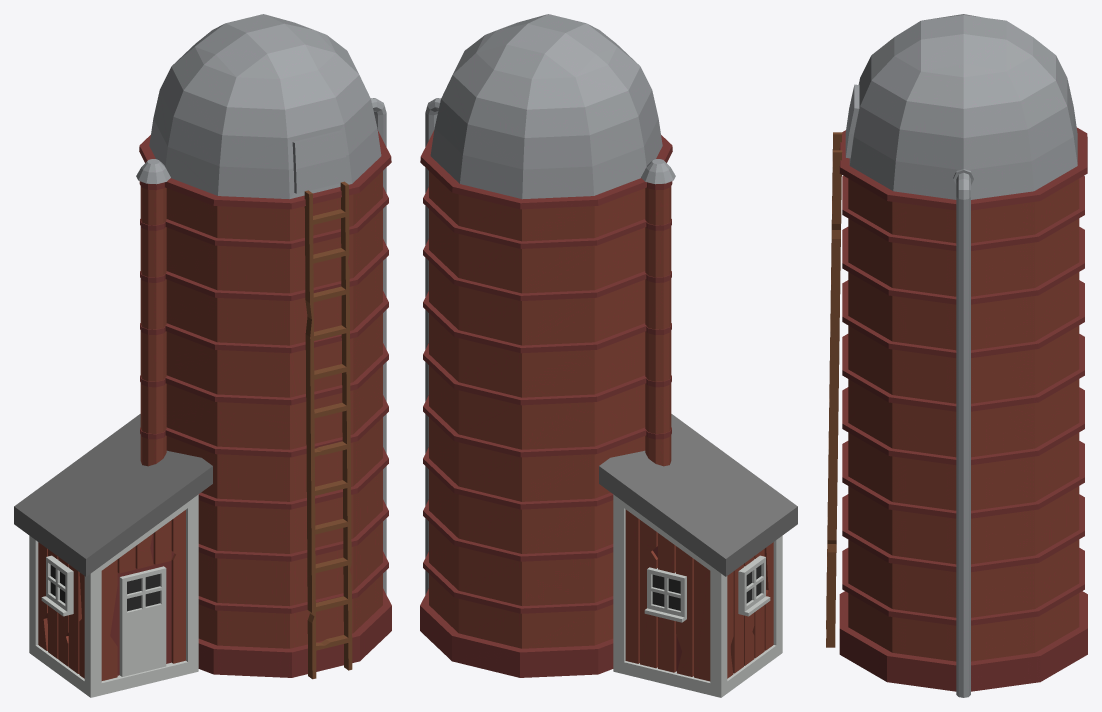
The model's file is farmhouse.glb.
3 views of the same model, side by side, from view 1: azimuth 30°, elevation 25°; view 2: azimuth 150°, elevation 25°; view 3: azimuth 270°, elevation 25° (orthographic). The views are drawn at different scales.
Parts seen in each view (by area): view 1: Silo_House_Cylinder.003; view 2: Silo_House_Cylinder.003; view 3: Silo_House_Cylinder.003.
Part boxes in pixels (left/top/right/bottom): Silo_House_Cylinder.003: left=14, top=14, right=391, bottom=697; Silo_House_Cylinder.003: left=420, top=14, right=797, bottom=697; Silo_House_Cylinder.003: left=826, top=14, right=1087, bottom=697.
Size of the model in its own units: 5.34 by 9.07 by 3.51.
1 material, 1 textured.
